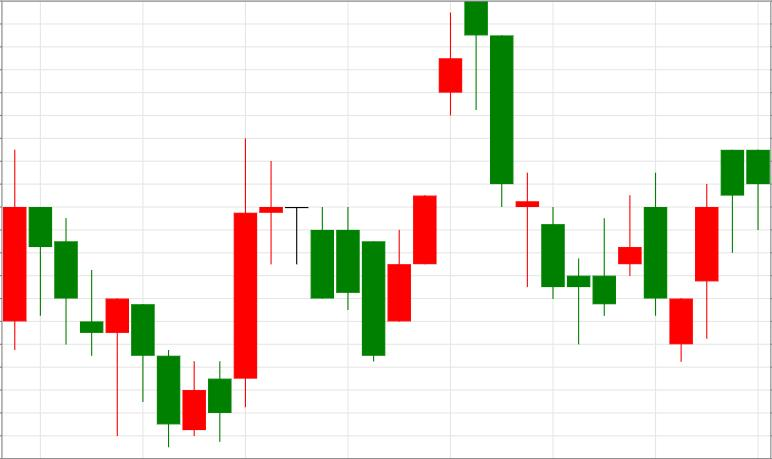hanging_man_fall: (363, 1, 488, 362)
